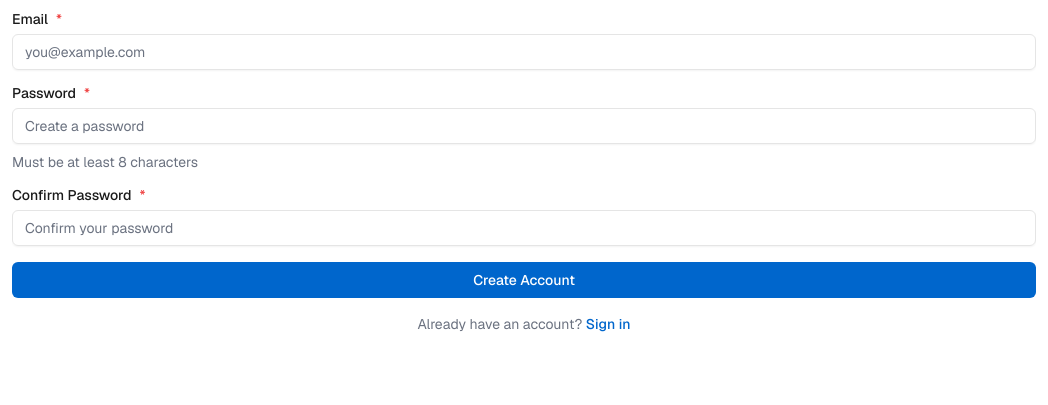
Test: RegisterForm › shows validation error for short password
Type "test@example.com" into the field labelled "Email *" at (524, 52), box [12, 34, 1036, 70]
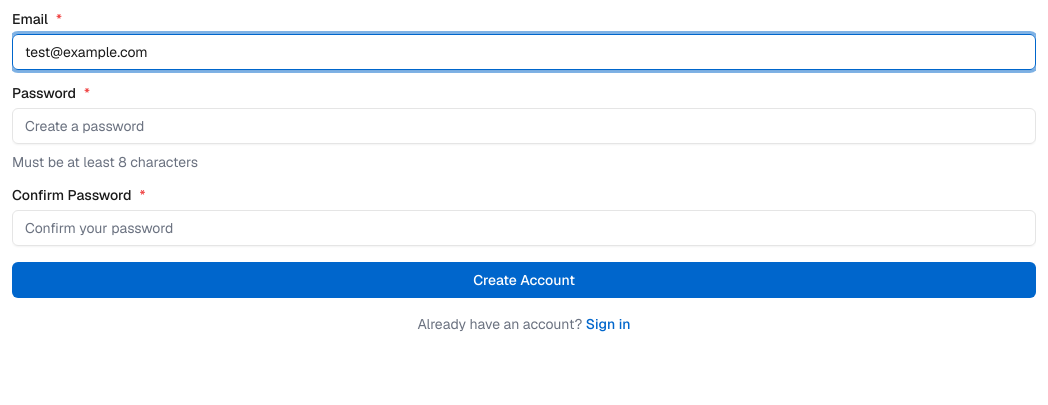
Type "short" into the password field labelled "Password *" at (524, 126), box [12, 108, 1036, 144]
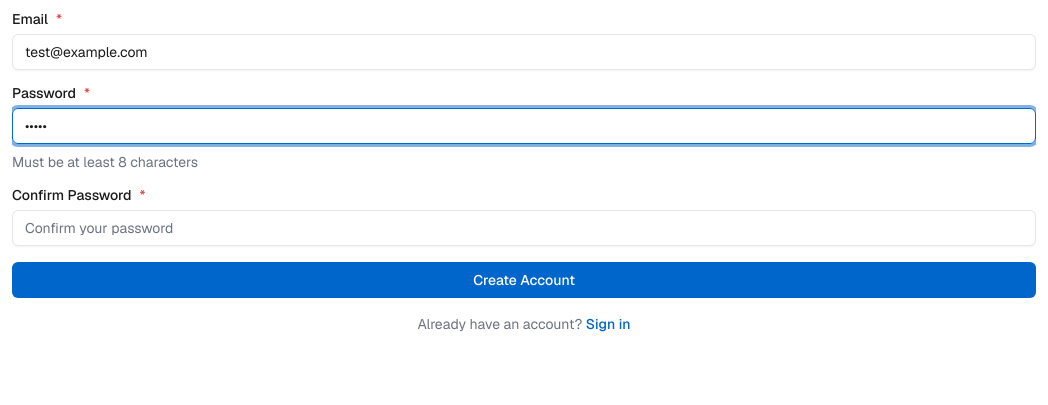
Click the button "Create Account" at (524, 280), box [12, 262, 1036, 298]
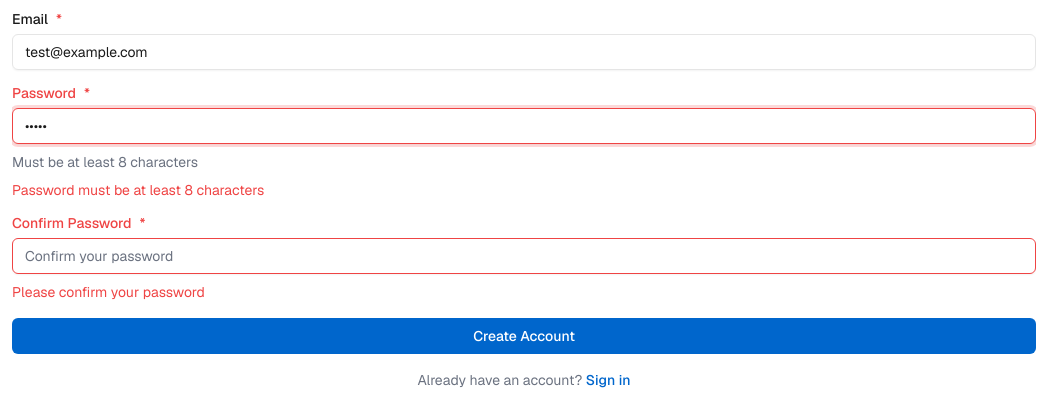
expect the text "Password must be at least 8 characters" is shown: met, box [12, 181, 264, 199]
